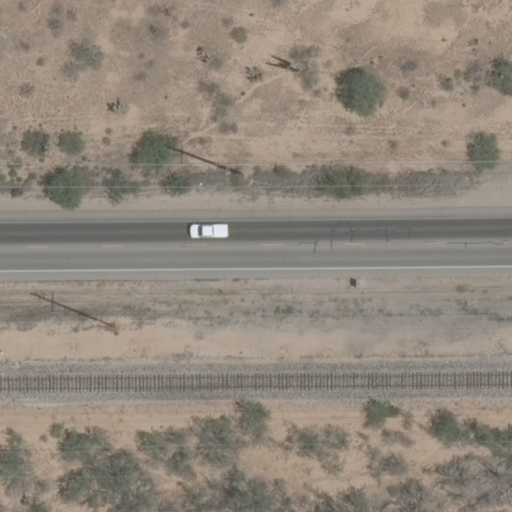DT: (30, 292, 105, 324), (161, 144, 241, 174)
